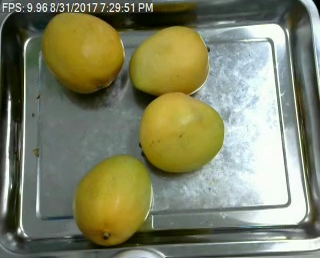Mango: (134, 91, 226, 174), (72, 155, 155, 246), (41, 11, 127, 90), (128, 25, 212, 100)
